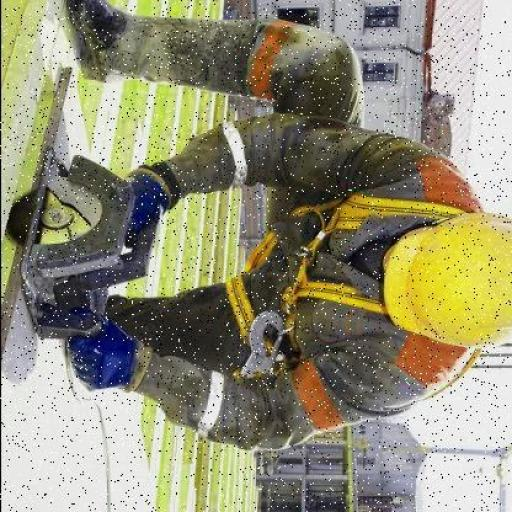person: (24, 0, 512, 456)
safety_shoe: (60, 0, 286, 92)
